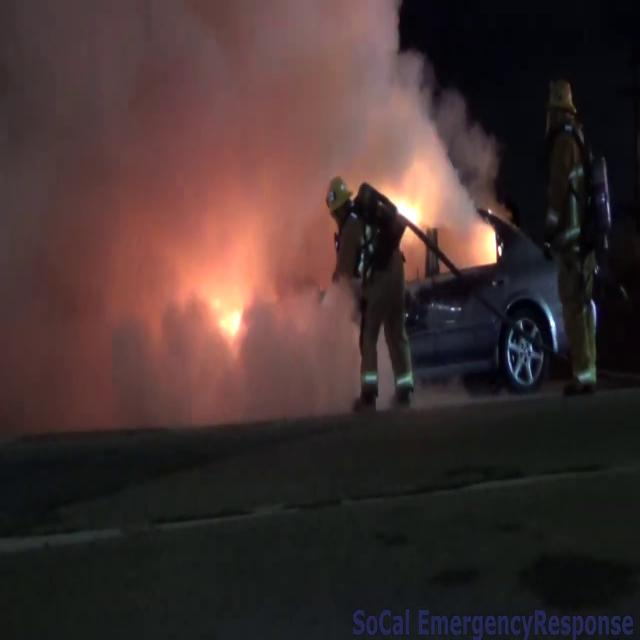Fire: (201, 283, 253, 348), (381, 171, 429, 241)
Smoke: (5, 0, 458, 440)
